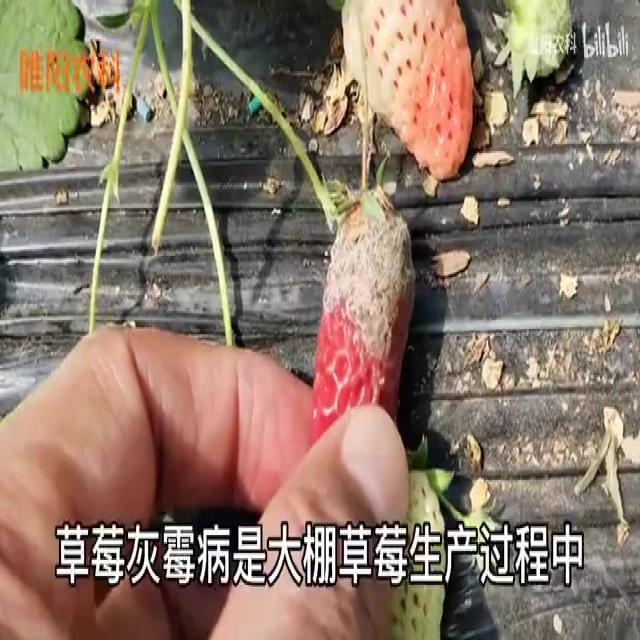Moho gris: (310, 172, 415, 442)
